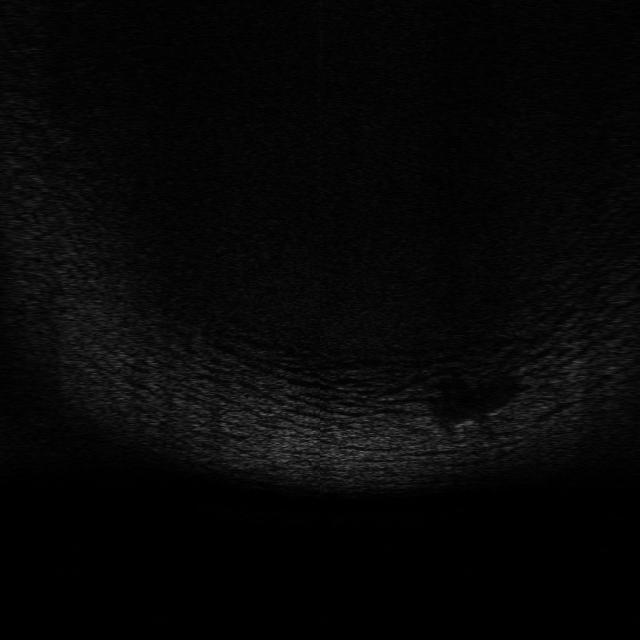plane: (430, 401, 510, 436)
